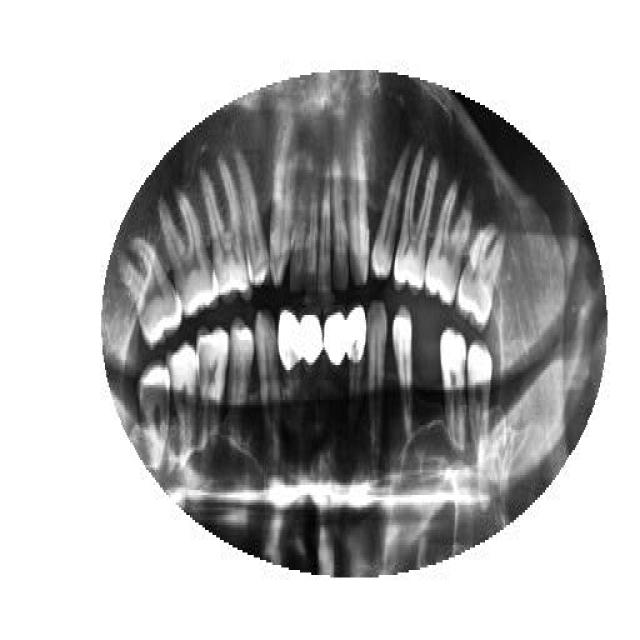Fillings: (347, 307, 368, 405), (278, 312, 300, 402), (300, 312, 322, 398), (324, 313, 345, 385)
